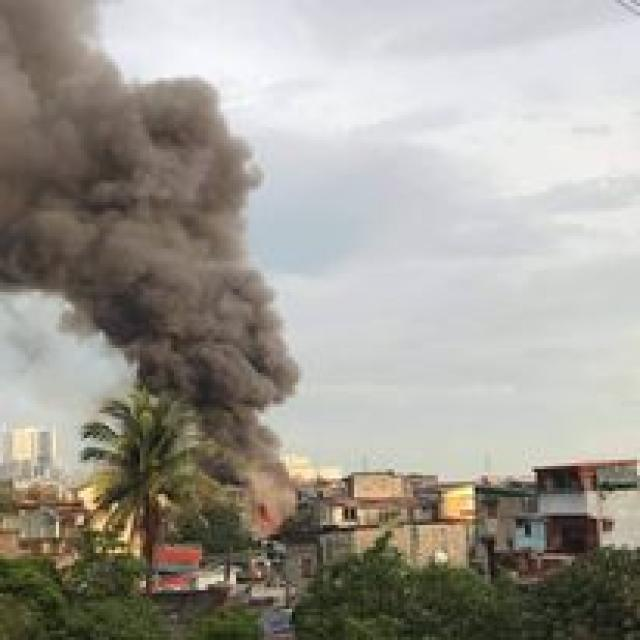Smoke: (0, 1, 304, 541)
